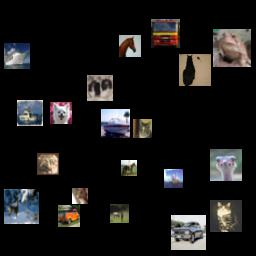automobile: (171, 215, 206, 250), (58, 205, 80, 227)
bird: (210, 149, 242, 181)
cat: (179, 54, 211, 86), (210, 200, 242, 232), (37, 153, 59, 175), (133, 119, 152, 138)
deer: (4, 189, 39, 224), (110, 204, 129, 223)
dog: (87, 75, 113, 101), (50, 102, 72, 124), (72, 188, 88, 204)
frog: (213, 29, 251, 67)
ship: (101, 109, 130, 138), (4, 43, 30, 69), (17, 100, 43, 126), (164, 169, 183, 188)
truck: (151, 19, 180, 48)
